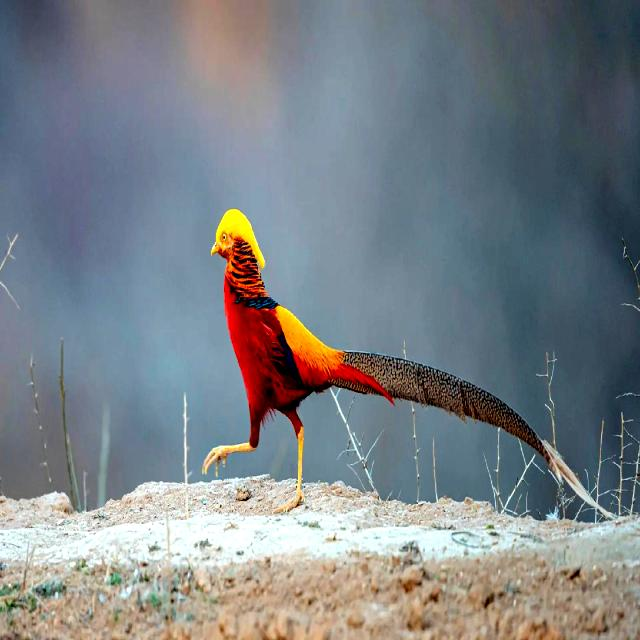Chrysolophus pictus feather: (328, 350, 617, 518)
